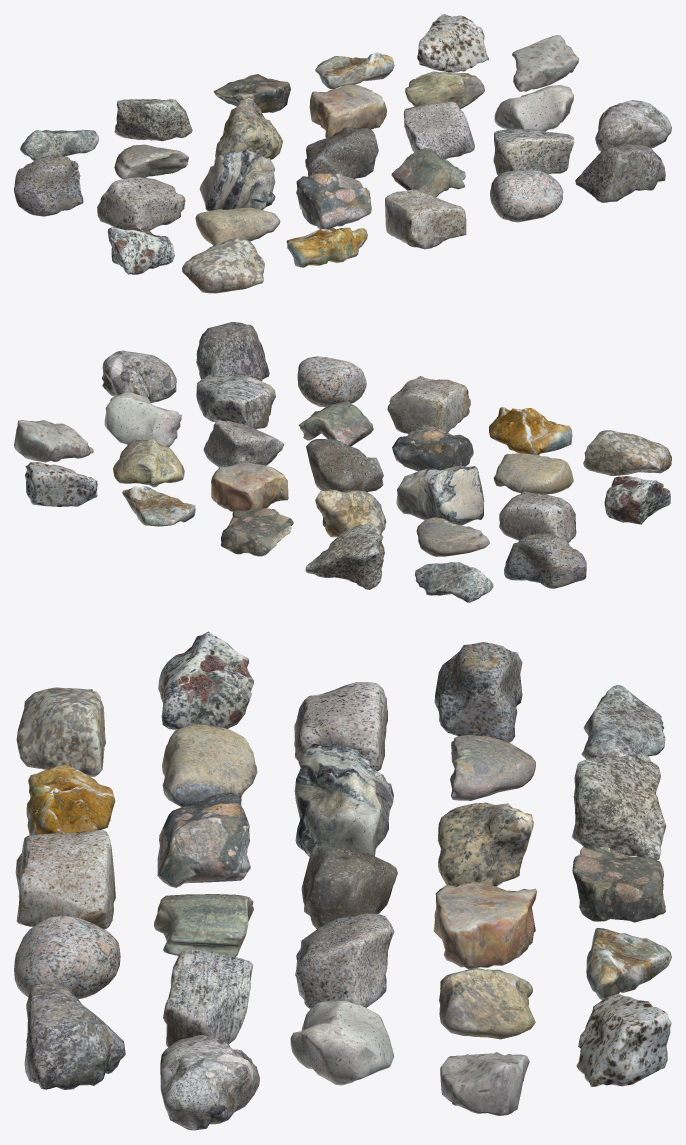
File: lowpoly_rocks_-_4_-_non_commercial.glb
3 views of the same model, one above another, from view 1: azimuth 30°, elevation 25°; view 2: azimuth 150°, elevation 25°; view 3: azimuth 270°, elevation 25° (orthographic). The views are drawn at different scales.
Parts seen in each view (by area): view 1: 12_rock, 23_rock, 25_rock, 11_rock, 27_rock, 17_rock, 21_rock, 19_rock, 05_rock, 24_rock, 14_rock, 08_rock (+15 smaller); view 2: 12_rock, 23_rock, 19_rock, 27_rock, 02_rock, 25_rock, 13_rock, 21_rock, 08_rock, 15_rock, 11_rock, 20_rock (+15 smaller); view 3: 12_rock, 23_rock, 02_rock, 25_rock, 14_rock, 08_rock, 20_rock, 17_rock, 27_rock, 26_rock, 05_rock, 19_rock (+15 smaller).
Part boxes in pixels (x1,y1,x2,y2): 12_rock: (199, 149, 275, 210); 23_rock: (385, 189, 466, 249); 25_rock: (575, 143, 665, 202); 11_rock: (97, 177, 185, 230); 27_rock: (14, 155, 83, 216); 17_rock: (296, 172, 371, 229); 21_rock: (182, 237, 264, 293); 19_rock: (493, 128, 574, 175); 05_rock: (417, 14, 488, 72); 24_rock: (490, 170, 563, 222); 14_rock: (403, 101, 474, 158); 08_rock: (309, 84, 386, 137); 12_rock: (396, 465, 484, 525); 23_rock: (387, 376, 470, 433); 19_rock: (196, 372, 275, 428); 27_rock: (504, 533, 586, 588); 02_rock: (305, 524, 384, 589); 25_rock: (196, 322, 269, 380); 13_rock: (306, 439, 383, 492); 21_rock: (583, 430, 671, 475); 08_rock: (211, 462, 288, 511); 15_rock: (104, 392, 181, 447); 11_rock: (499, 491, 576, 542); 20_rock: (101, 350, 176, 402); 12_rock: (294, 743, 393, 856); 23_rock: (15, 830, 115, 929); 02_rock: (571, 752, 666, 860); 25_rock: (24, 981, 125, 1089); 14_rock: (295, 913, 394, 1008); 08_rock: (433, 881, 536, 969); 20_rock: (160, 1034, 259, 1130); 17_rock: (157, 792, 250, 887); 27_rock: (434, 642, 522, 742); 26_rock: (158, 631, 253, 729); 05_rock: (576, 994, 671, 1086); 19_rock: (163, 948, 253, 1047).
Bounding box in the file's own units: 762 × 69.48 × 475.
27 materials, 27 textured.
